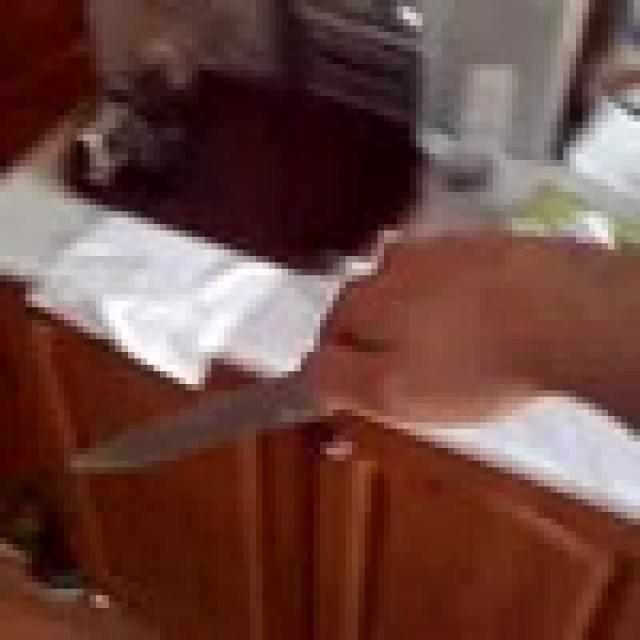weapon: (64, 358, 352, 493)
